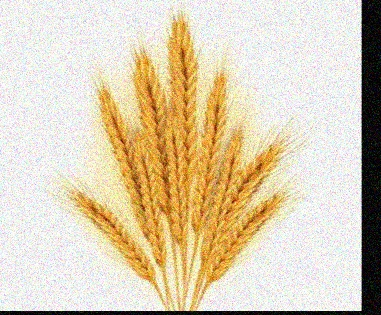wheat: (94, 75, 165, 277), (208, 125, 299, 273), (47, 175, 156, 289), (129, 33, 179, 253), (156, 13, 197, 255), (186, 60, 228, 247), (200, 118, 244, 257)
